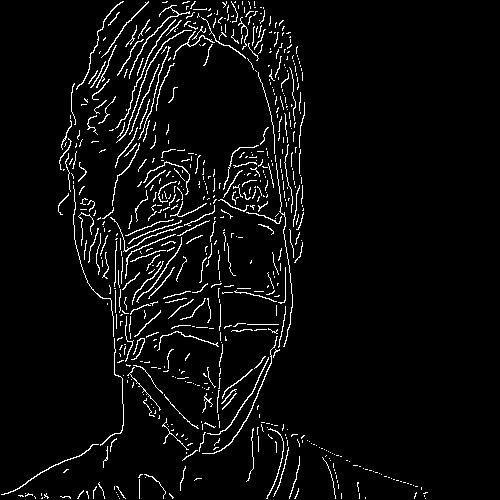mask: (122, 235, 287, 411)
